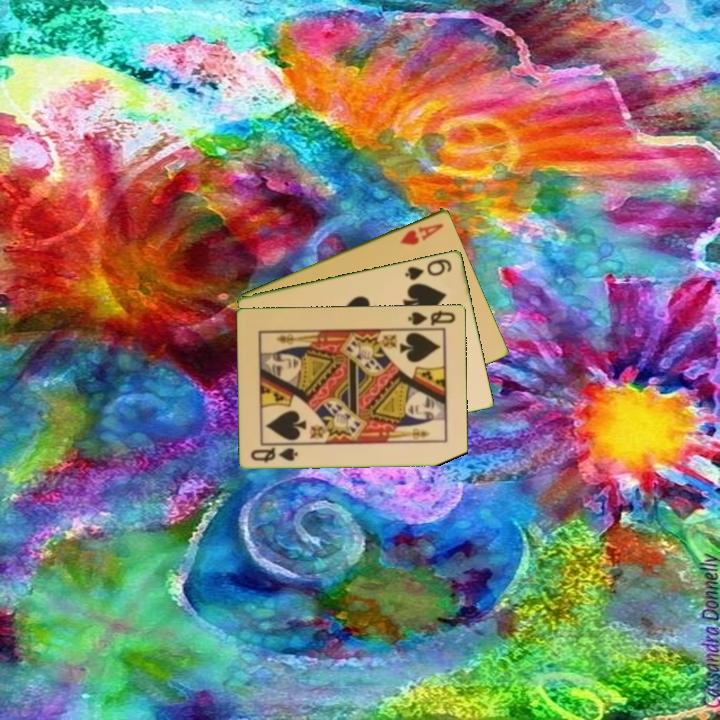6s: (402, 255, 455, 283)
Ah: (396, 219, 447, 248)
Qs: (405, 306, 458, 328), (248, 443, 301, 465)
